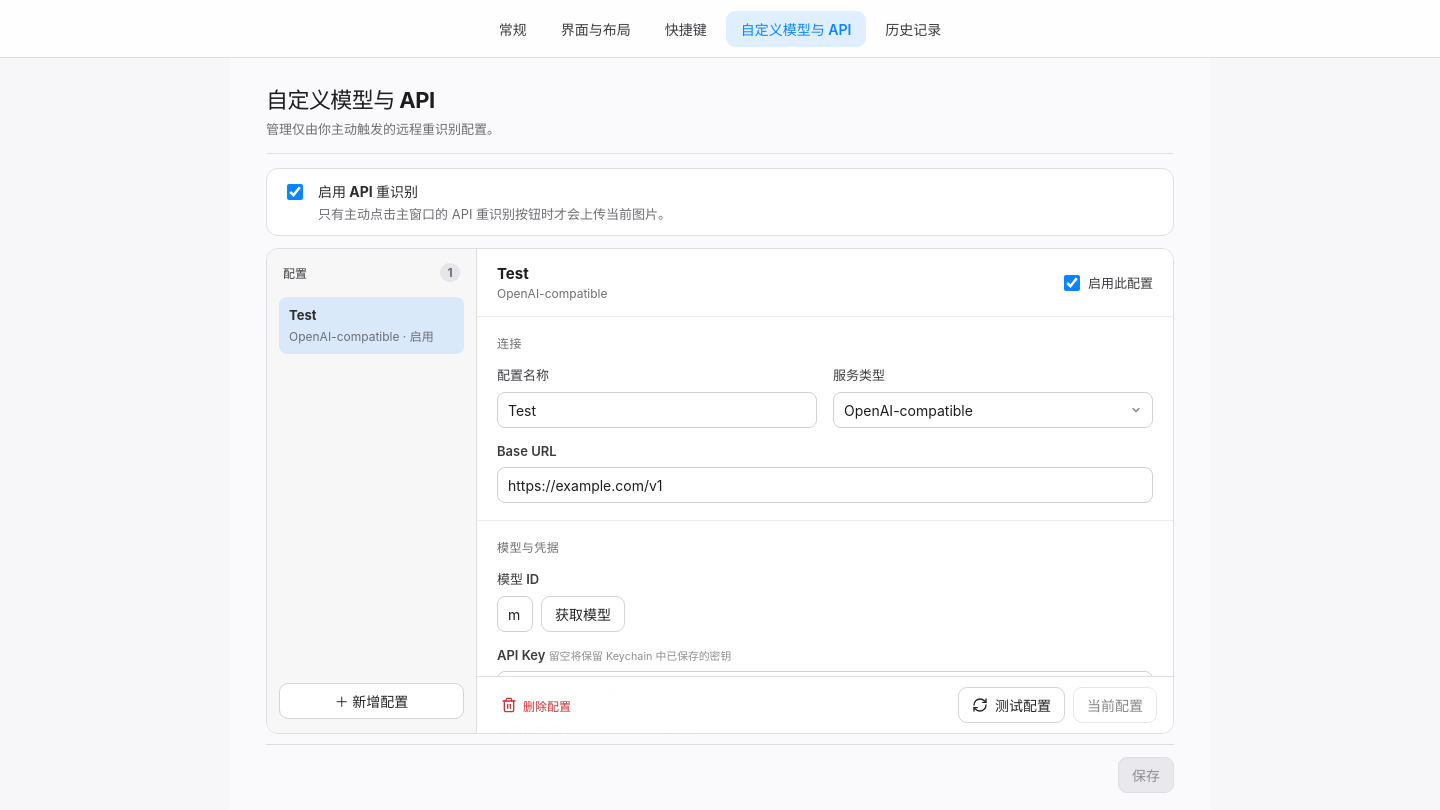
Scenario: settings interaction › does not confuse model retrieval with saving
The image size is (1440, 810).
Expected: the element that starts with "启用 API 重识别" is enabled, [266,154,1174,744]
Click the button "获取模型" at coordinates (583, 614), box [541,596,625,632]
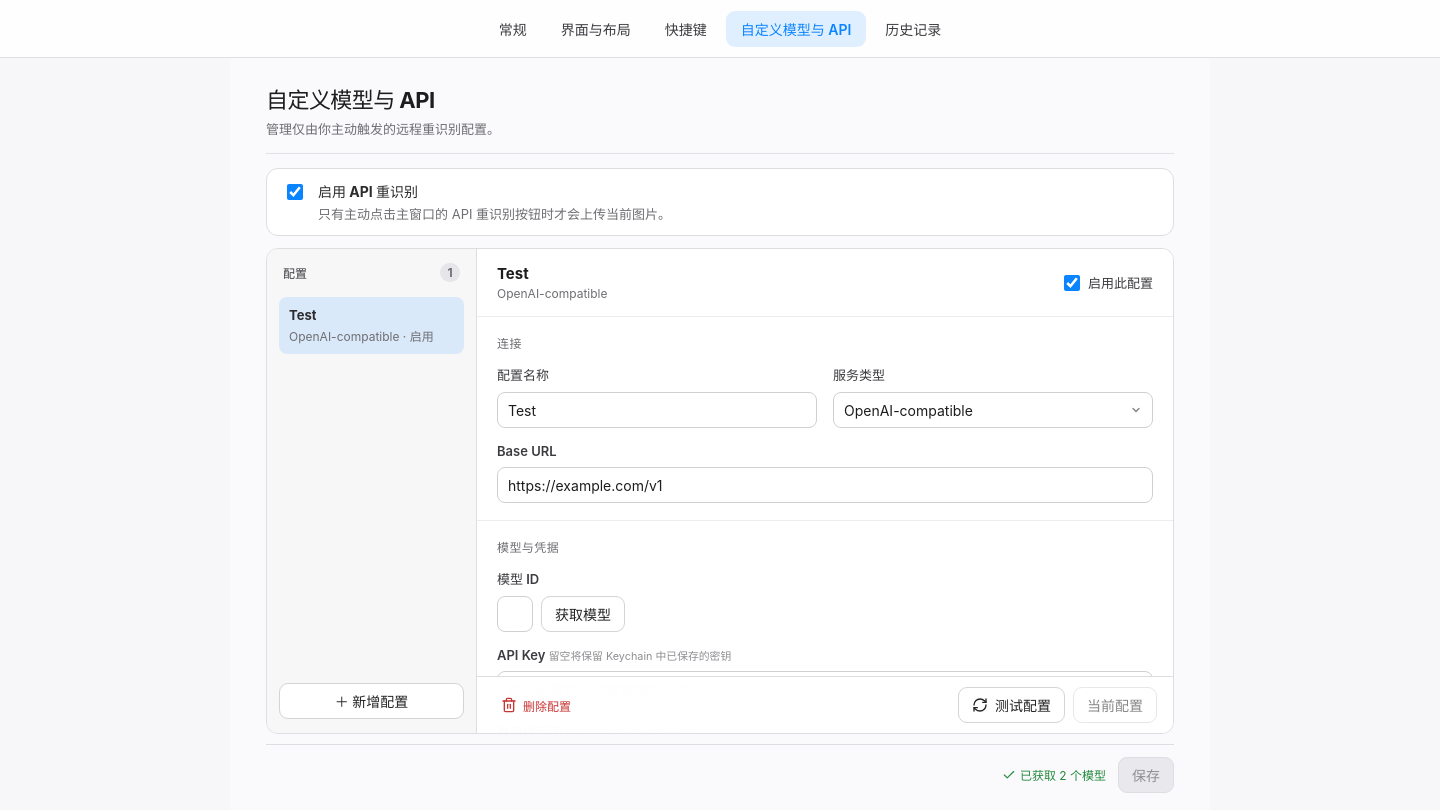
Expected: the button "保存" is disabled, [1118,756,1174,792]
Now the text "已获取 2 个模型" is shown, box [1002,766,1106,783]
